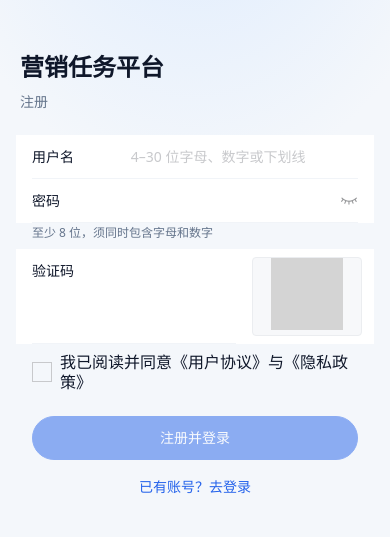
Test: RegisterPage › shows duplicate username from availability api
The image size is (390, 537).
Type "bob_01" into the field labelled "用户名" at (244,157), box [131,145,358,169]
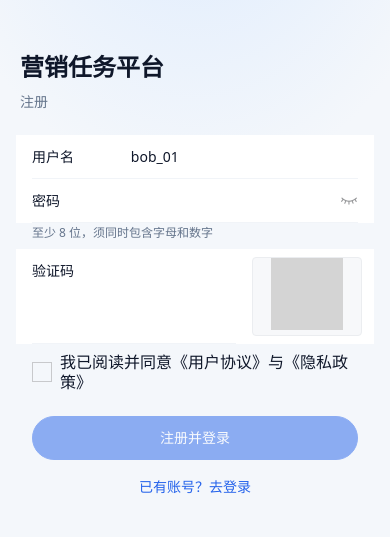
Leave the field labelled "用户名", box [131,145,358,169]
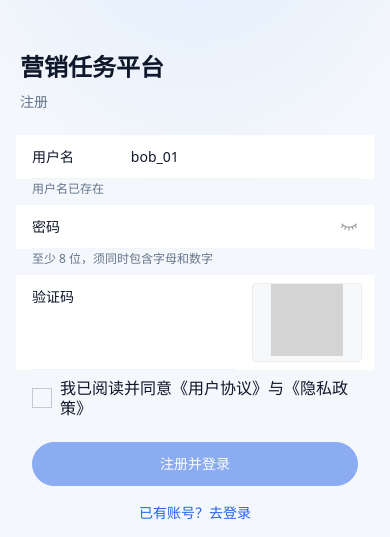
Expected: the text with test id "register-username-hint" reads "用户名已存在", [32,180,104,197]
